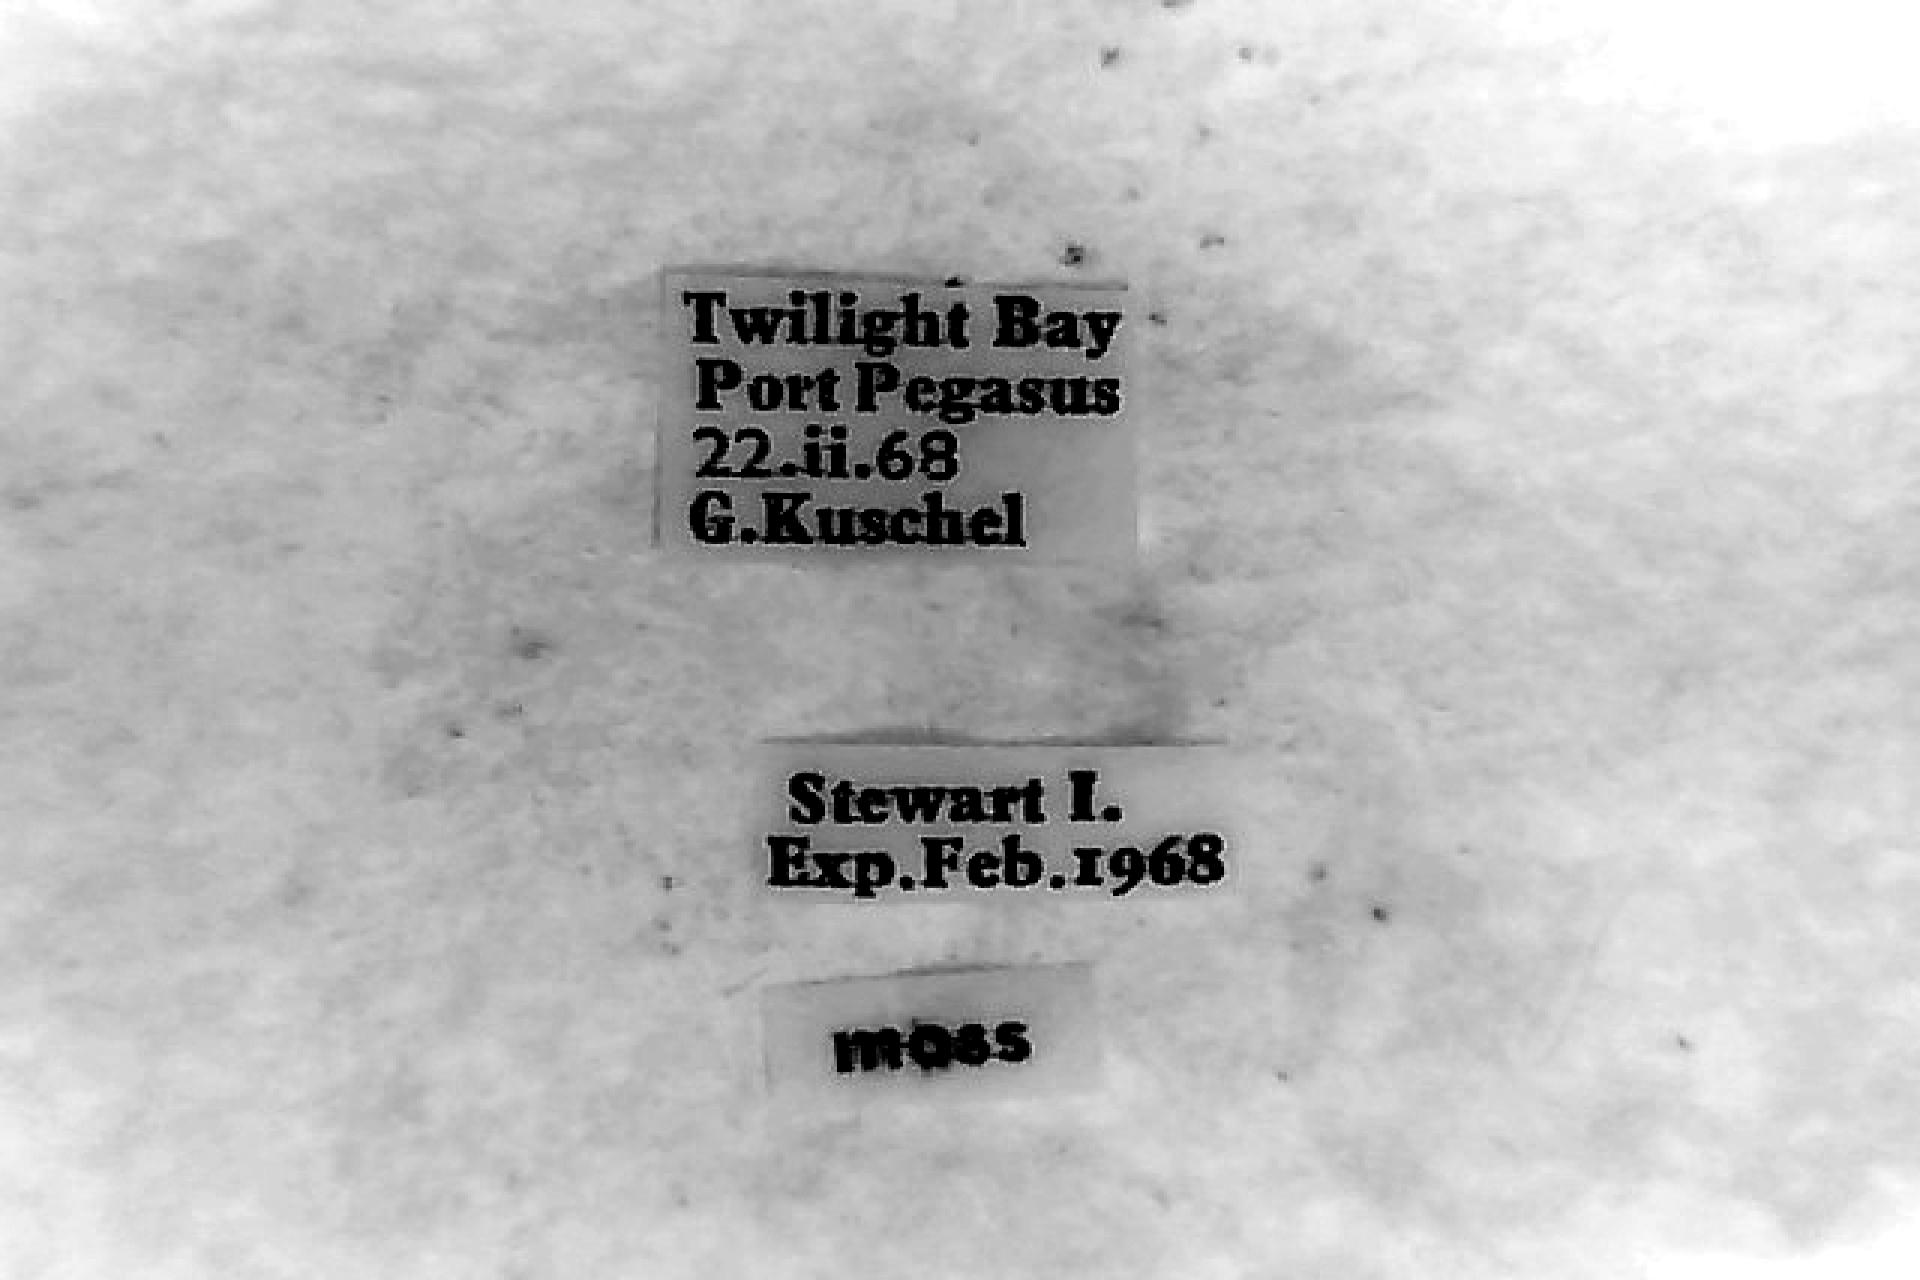typed_label: (660, 267, 1136, 562), (769, 743, 1230, 898), (769, 967, 1095, 1100)
